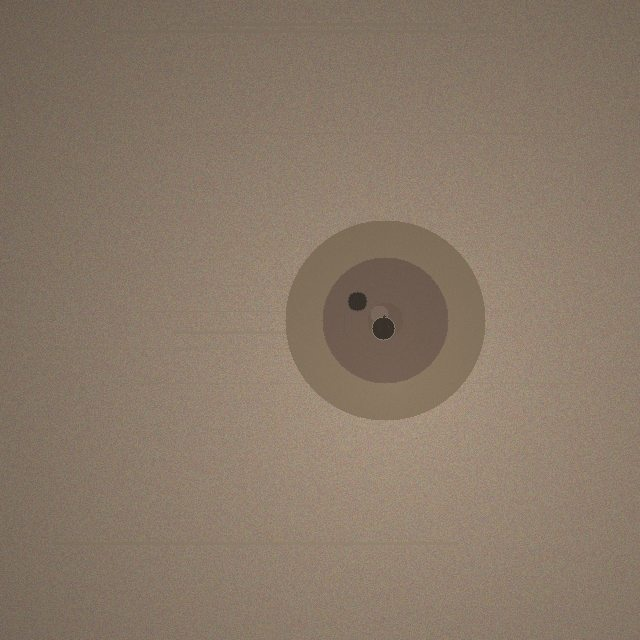shrinkage: (285, 220, 485, 420)
